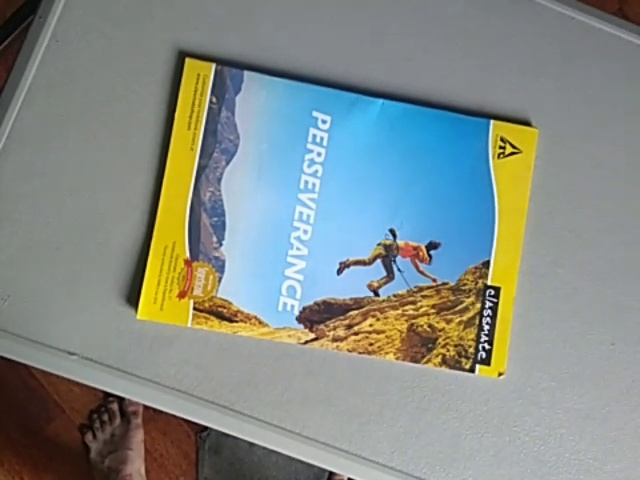Book: (122, 39, 542, 426)
